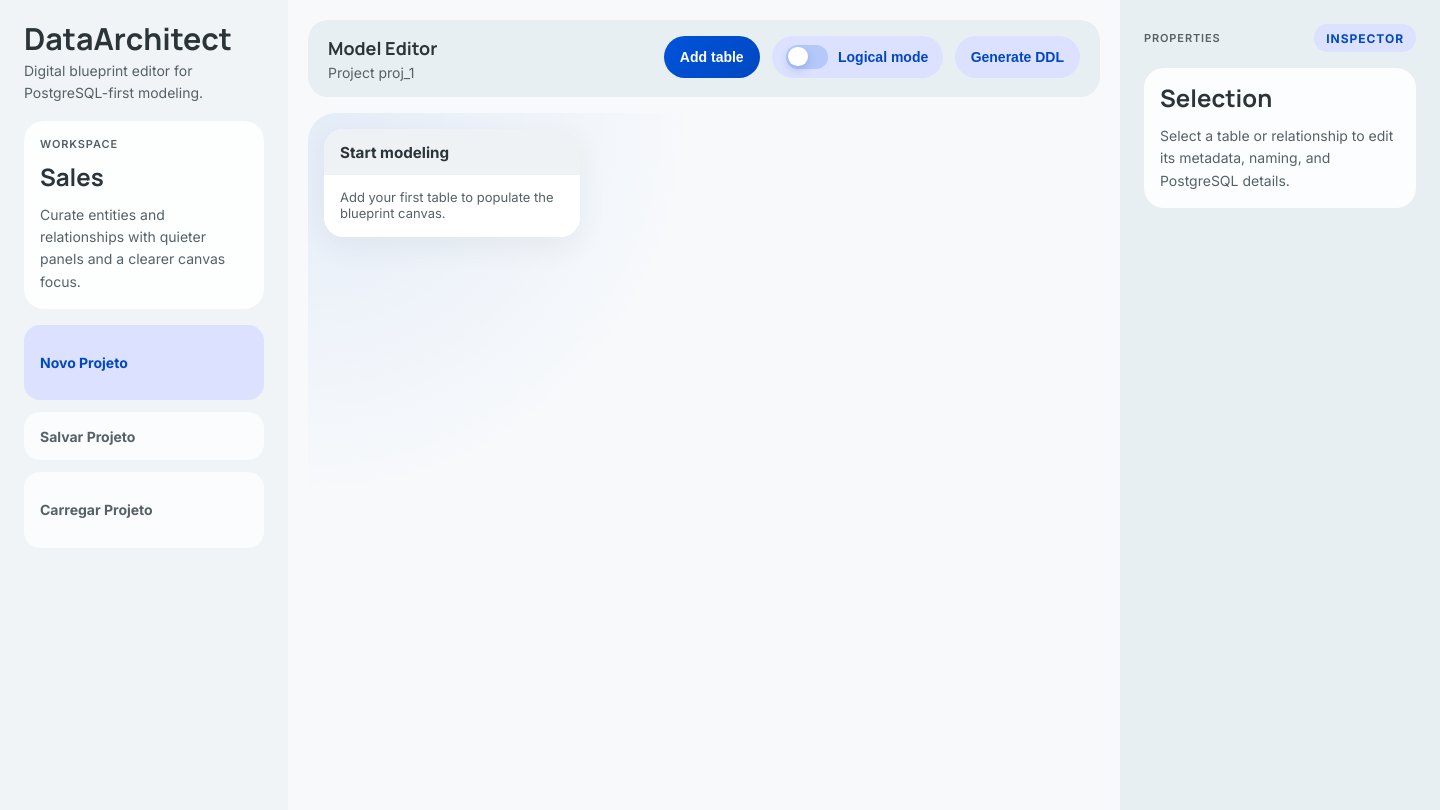
Test: ModelerWorkspace › shows a validation error when ddl generation fails
Click the button "Generate DDL". click: (1017, 57)
box: 955,36 -> 1080,78
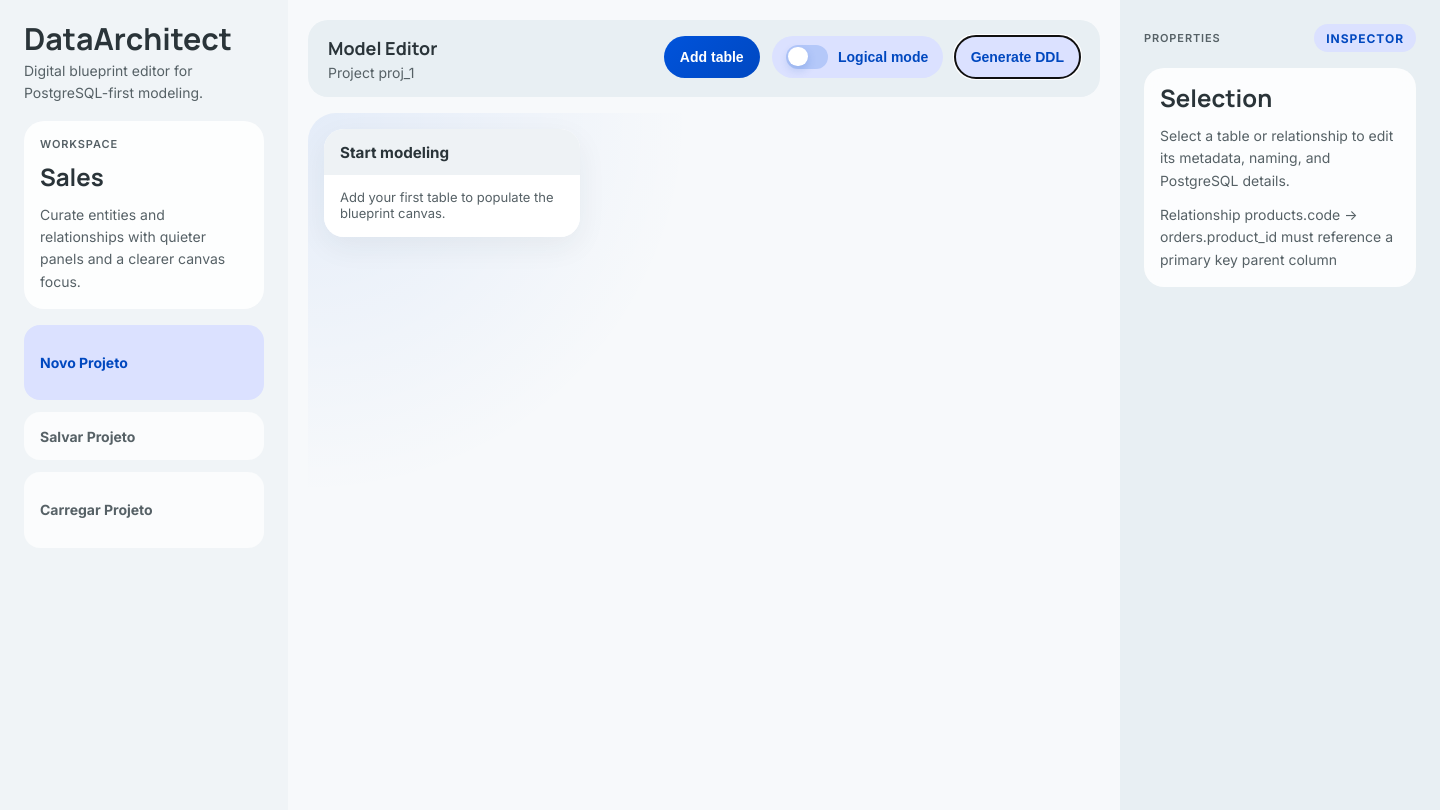
Result: the message shows "relationship products.code -> orders.product_id must reference a primary key parent column" at 1160,206 -> 1393,268
